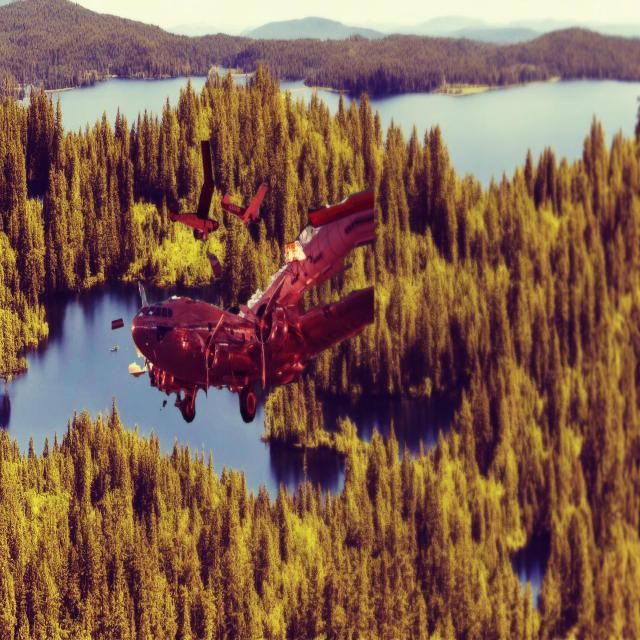airplane: (126, 186, 376, 423), (168, 139, 218, 243), (221, 182, 268, 230)
